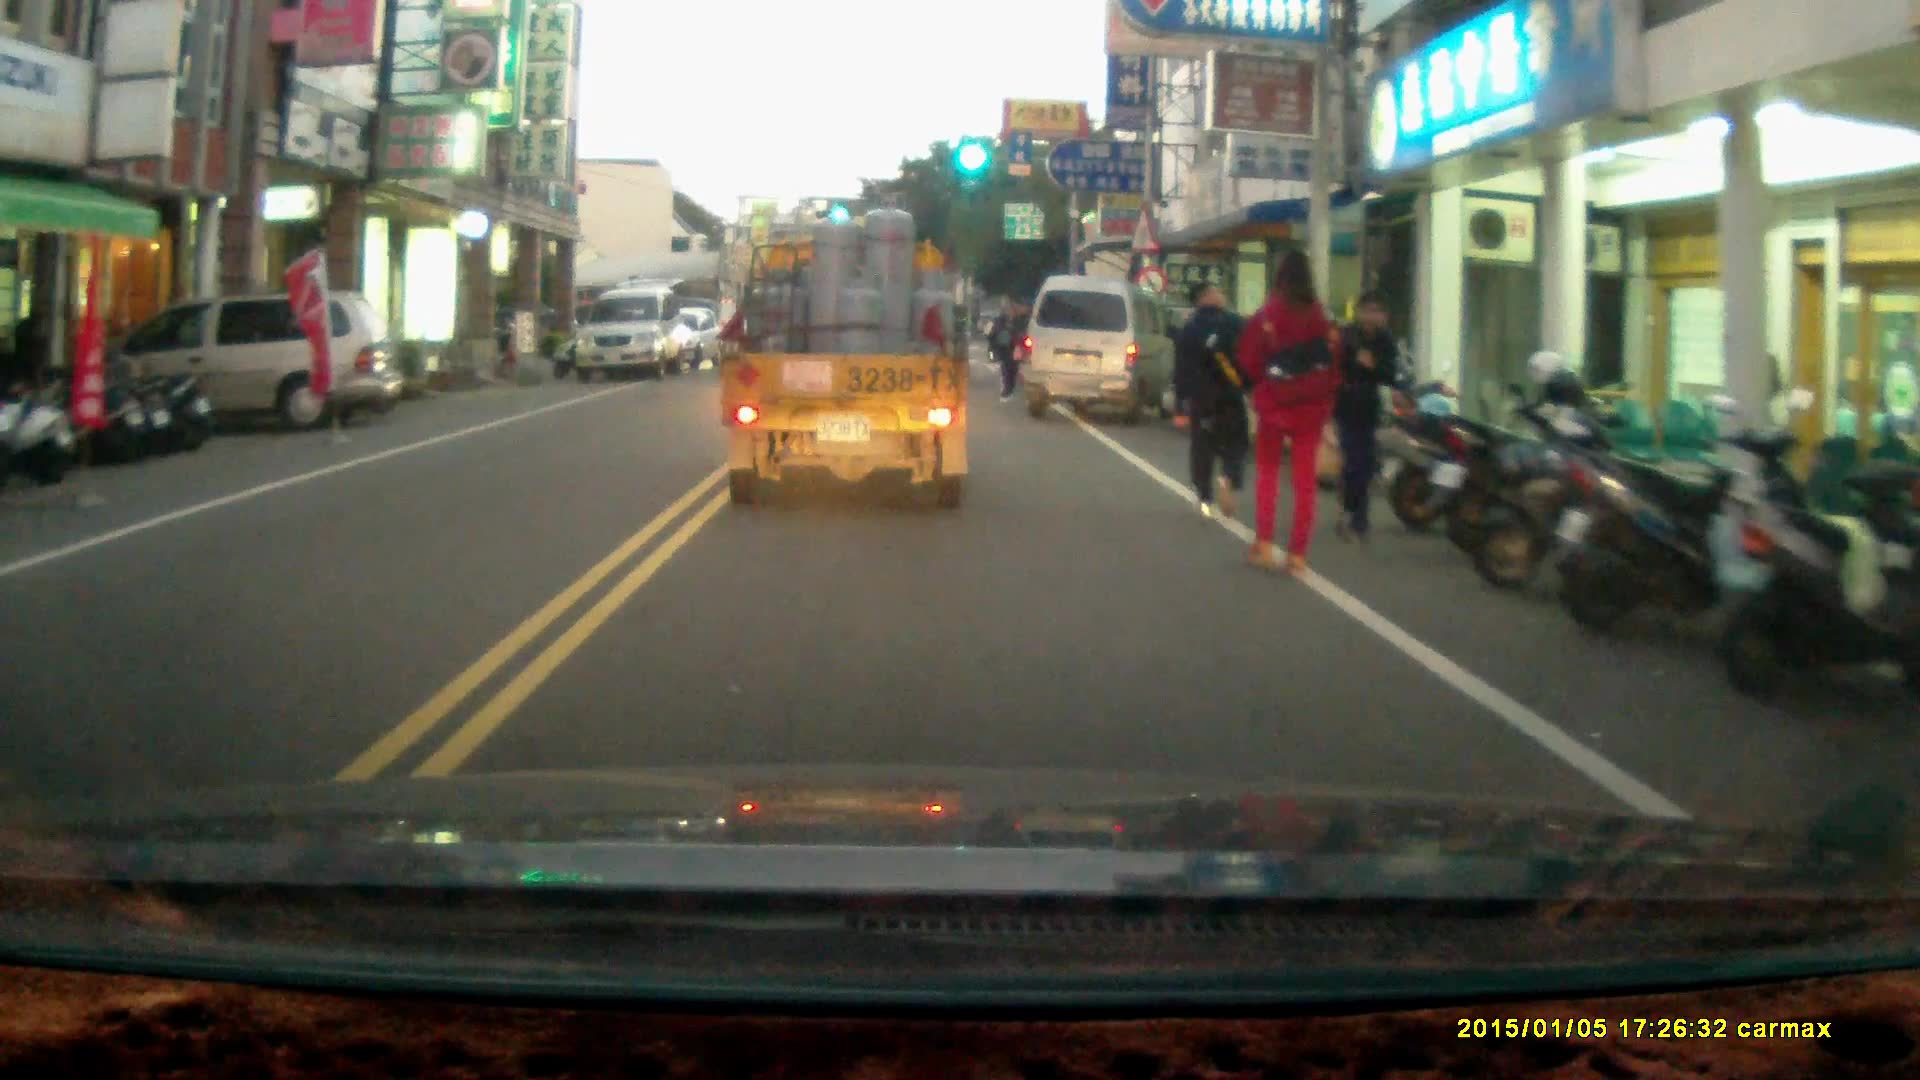pedestrian: (1240, 239, 1336, 583), (1165, 276, 1254, 521), (1325, 291, 1399, 547), (991, 302, 1026, 401)
vehicle: (712, 187, 978, 517), (100, 290, 400, 429), (1025, 275, 1176, 422), (581, 284, 699, 383)
